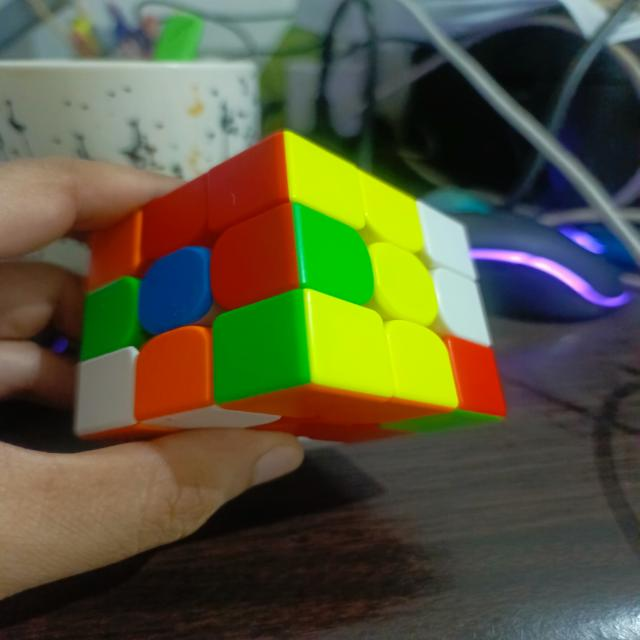rubik: (72, 128, 508, 442)
